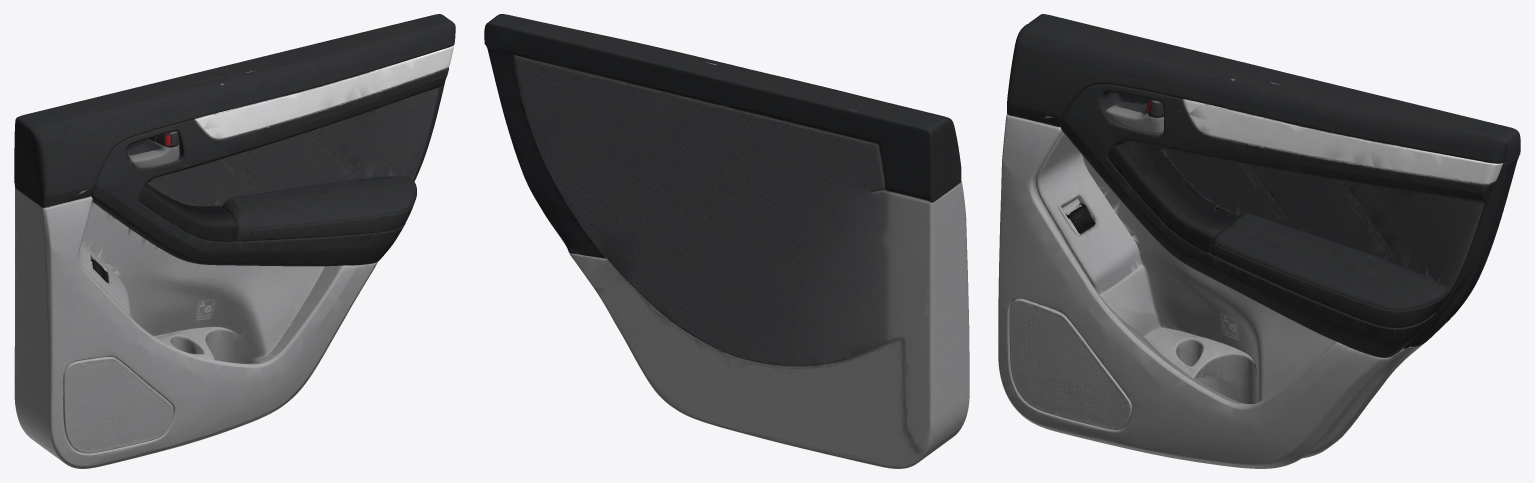
File: reardoorcard.glb
3 renders of one model, left to right at view 1: azimuth 30°, elevation 25°; view 2: azimuth 150°, elevation 25°; view 3: azimuth 330°, elevation 25°, orthographic. The views are drawn at different scales.
Size of the model in its own units: 1.9 by 1.43 by 0.3053.
1 material, 1 textured.
